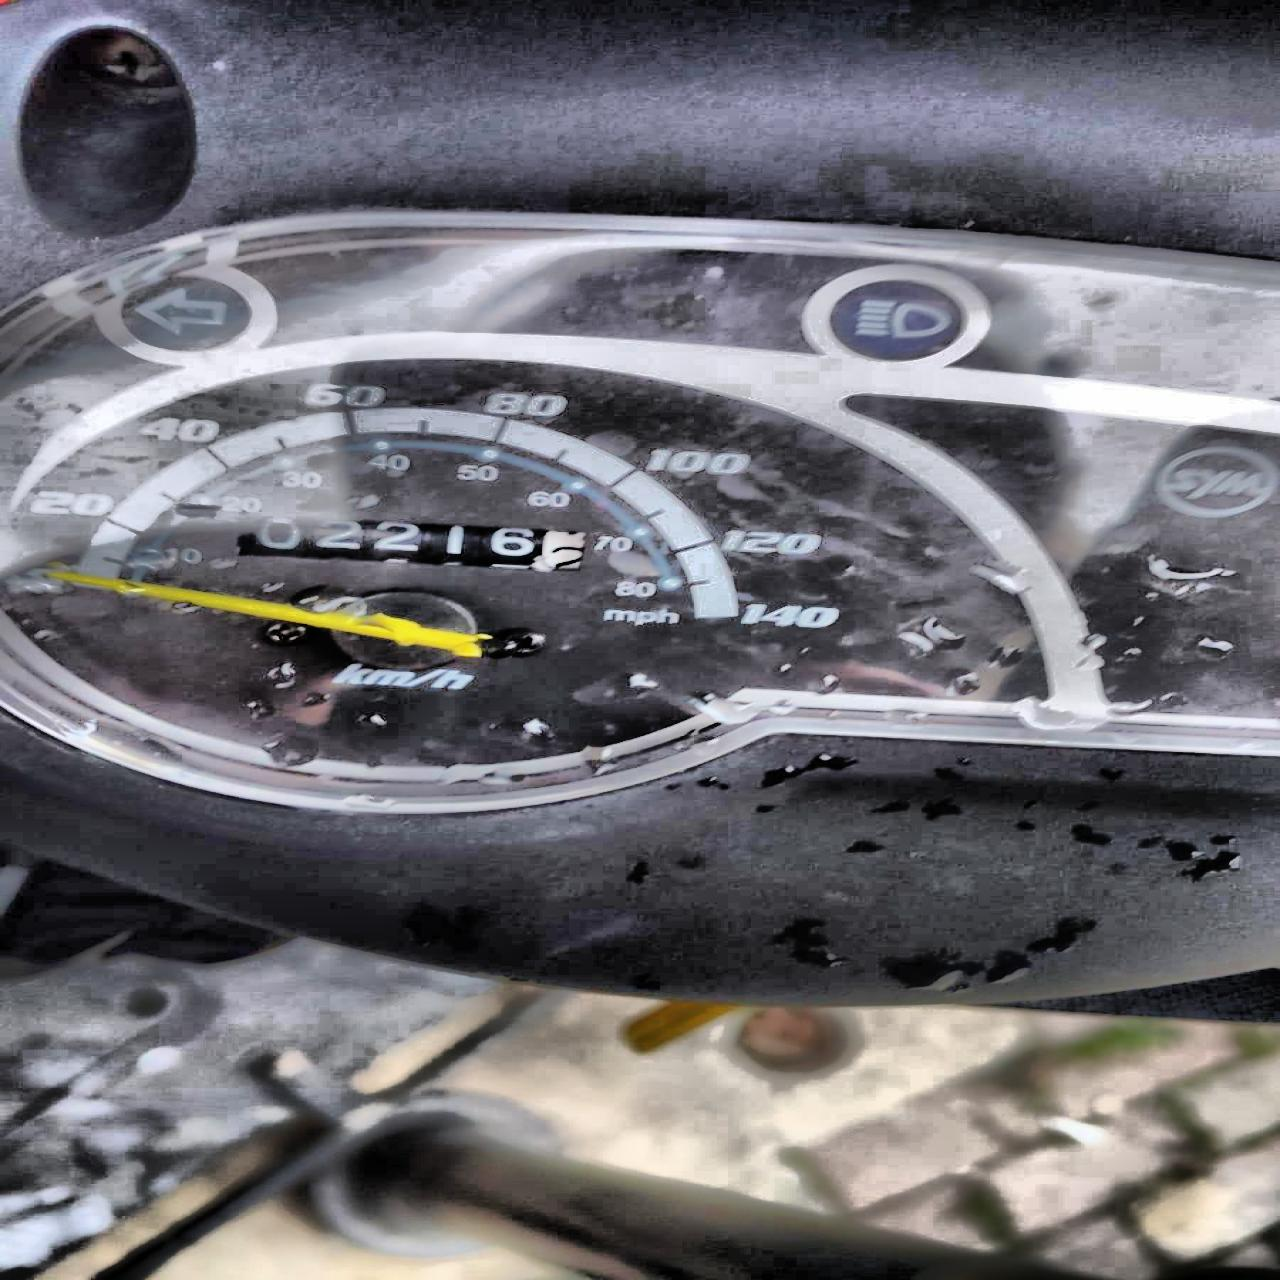0: (257, 515, 301, 553)
1: (443, 522, 470, 557)
2: (314, 516, 361, 553), (374, 518, 415, 552), (546, 543, 592, 573)
6: (486, 523, 537, 557)
7: (593, 533, 608, 549)
odometer: (233, 508, 608, 581)
